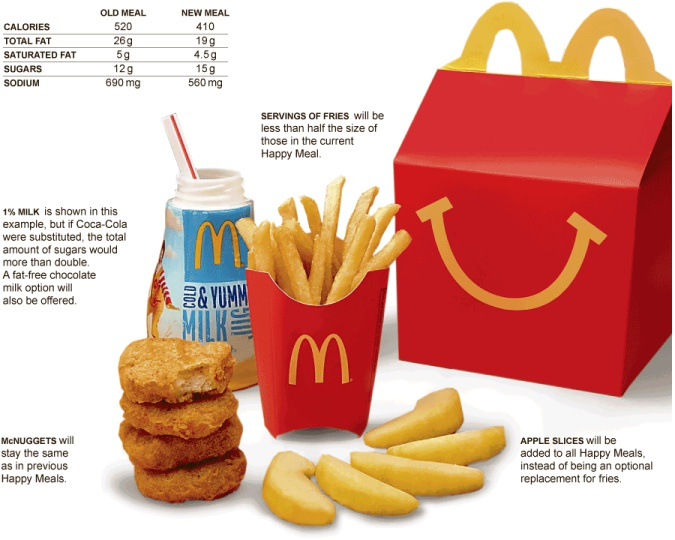mcdonalds: (287, 331, 354, 389), (189, 218, 244, 271)
